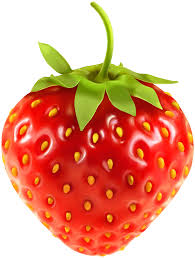strawberry: (1, 4, 188, 258)
